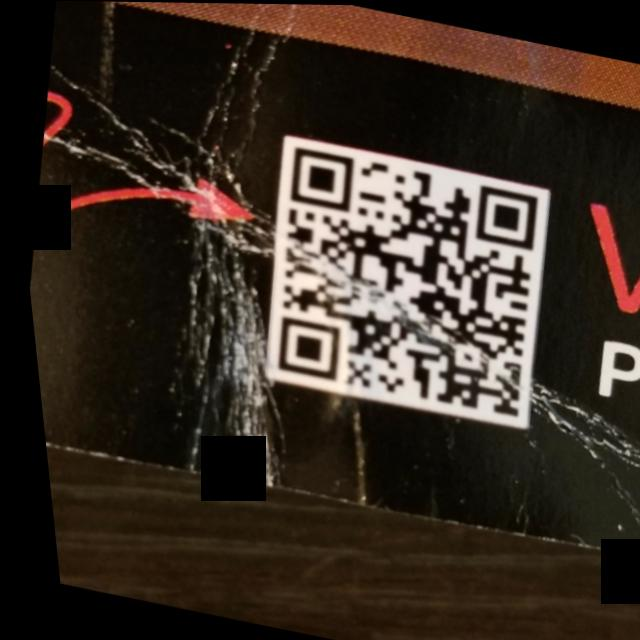QR_CODE: (235, 137, 567, 439)
